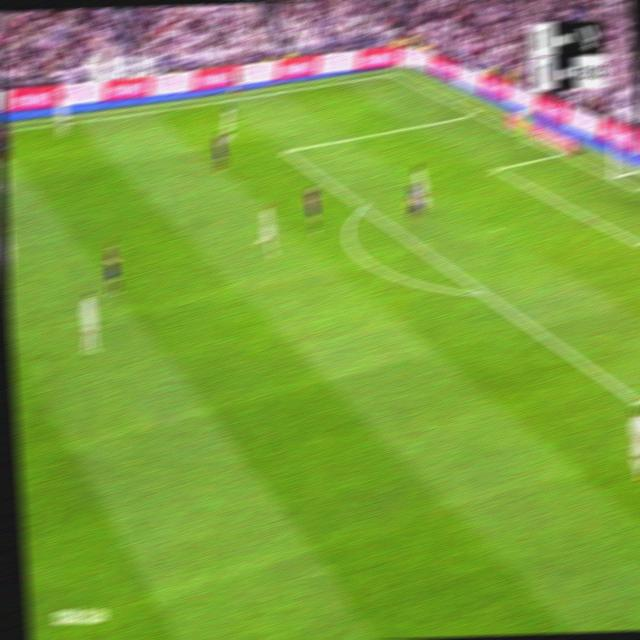bigarea_bottom_inner: (629, 388, 640, 412)
bigarea_top_inner: (280, 143, 291, 158)
bigarea_top_outter: (468, 104, 483, 120)
bottom_arc_area_intersection: (473, 279, 489, 302)
corner: (386, 67, 401, 77)
smallarea_top_inner: (489, 160, 505, 176)
top_arc_area_intersection: (354, 197, 370, 214)
